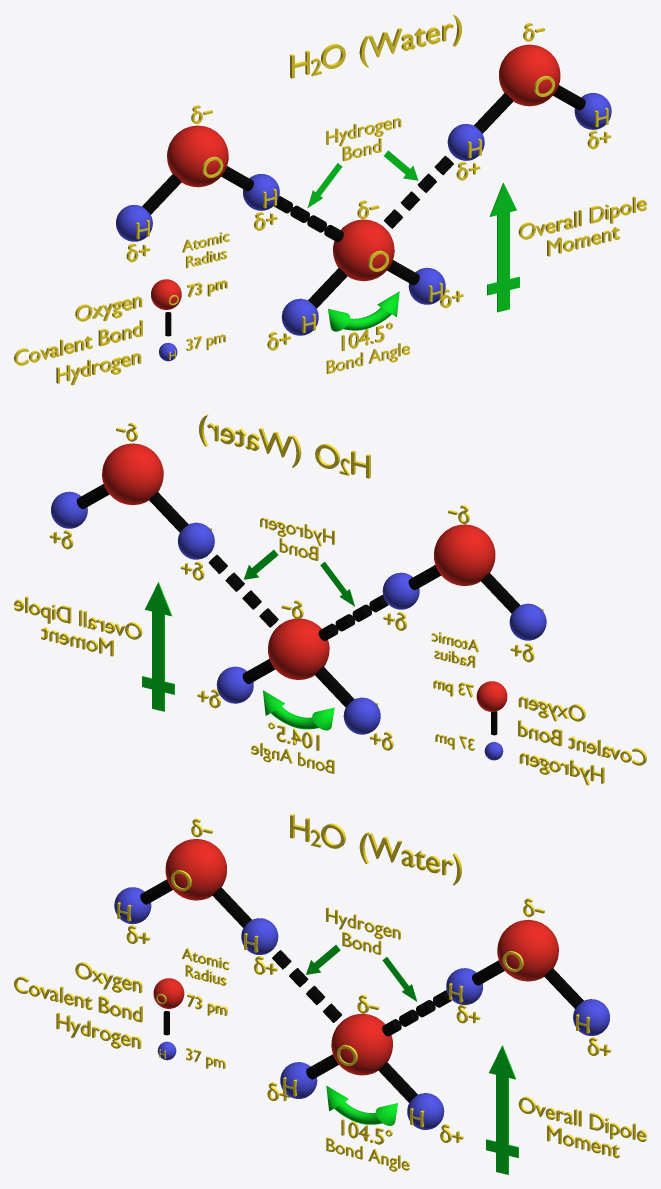
File: chem__covalent__molecular.glb
3 renders of one model, top to bottom at view 1: azimuth 30°, elevation 25°; view 2: azimuth 150°, elevation 25°; view 3: azimuth 330°, elevation 25°, orthographic.
Parts seen in each view (by area): view 1: Hydrogen Bond, Text.007, Text.003, Plane.002, Text.006, Torus.001, Text.001, Text.005, Hydrogen Bond.001, Text.002, Text.004, Text.008; view 2: Hydrogen Bond, Text.007, Text.003, Plane.002, Text.006, Torus.001, Text.001, Text.005, Hydrogen Bond.001, Text.004, Text.008, Text.002; view 3: Hydrogen Bond, Text.007, Text.003, Plane.002, Text.006, Torus.001, Text.001, Text.005, Hydrogen Bond.001, Text.004, Text.008, Text.002.
Part boxes in pixels (x1,y1,x2,y2): Hydrogen Bond: [116, 44, 611, 335]; Text.007: [290, 14, 461, 78]; Text.003: [518, 196, 646, 256]; Plane.002: [487, 183, 519, 312]; Text.006: [14, 319, 142, 365]; Torus.001: [328, 291, 399, 331]; Text.001: [326, 118, 401, 161]; Text.005: [56, 353, 141, 385]; Hydrogen Bond.001: [151, 279, 181, 309]; Text.002: [326, 343, 409, 373]; Text.004: [75, 296, 142, 321]; Text.008: [182, 232, 229, 268]; Hydrogen Bond: [51, 443, 546, 734]; Text.007: [199, 414, 370, 478]; Text.003: [14, 596, 142, 656]; Plane.002: [142, 582, 174, 711]; Text.006: [518, 719, 646, 765]; Torus.001: [263, 690, 334, 730]; Text.001: [260, 517, 334, 560]; Text.005: [519, 753, 604, 785]; Hydrogen Bond.001: [476, 681, 507, 711]; Text.004: [518, 696, 585, 721]; Text.008: [431, 631, 478, 667]; Text.002: [251, 742, 334, 773]; Hydrogen Bond: [114, 839, 609, 1129]; Text.007: [290, 814, 461, 885]; Text.003: [518, 1096, 646, 1158]; Plane.002: [486, 1045, 518, 1174]; Text.006: [14, 976, 142, 1022]; Torus.001: [326, 1085, 397, 1125]; Text.001: [326, 907, 400, 954]; Text.005: [56, 1012, 141, 1048]; Hydrogen Bond.001: [153, 978, 184, 1008]; Text.004: [75, 962, 142, 993]; Text.008: [182, 948, 229, 985]; Text.002: [326, 1137, 409, 1171].
Bounding box in the file's own units: 23.6 × 11.84 × 2.01.
